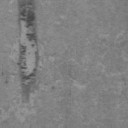oxide scale of plate system: (16, 0, 42, 105)
